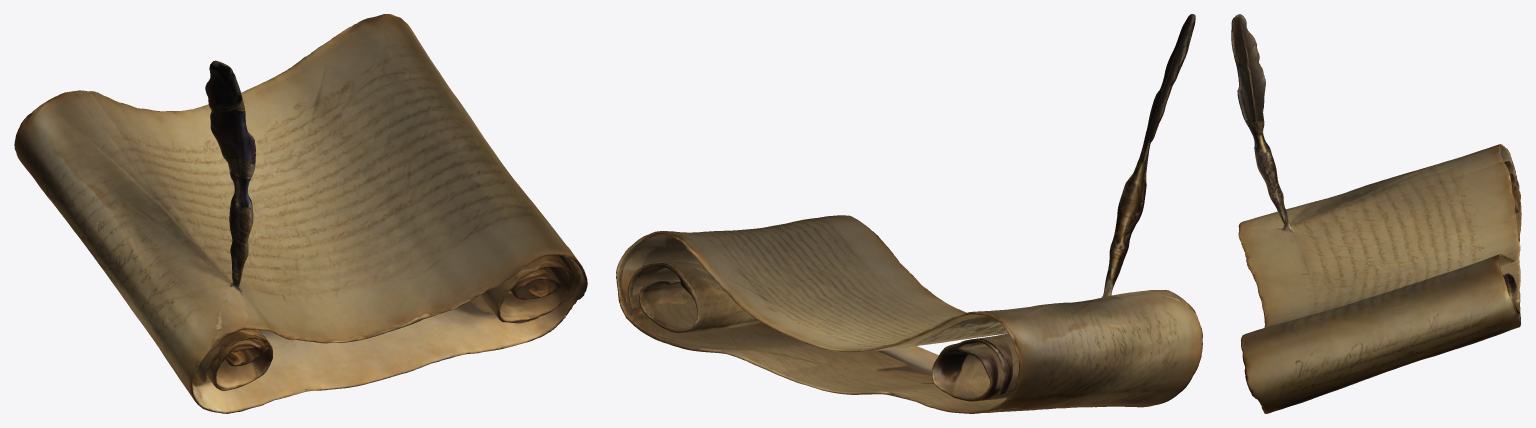
Rendered from log.glb.
3 renders of one model, left to right at view 1: azimuth 30°, elevation 25°; view 2: azimuth 150°, elevation 25°; view 3: azimuth 270°, elevation 25°, orthographic. The views are drawn at different scales.
Size of the model in its own units: 2 by 1.84 by 1.72.
Materials: 1 (1 with a texture image).
